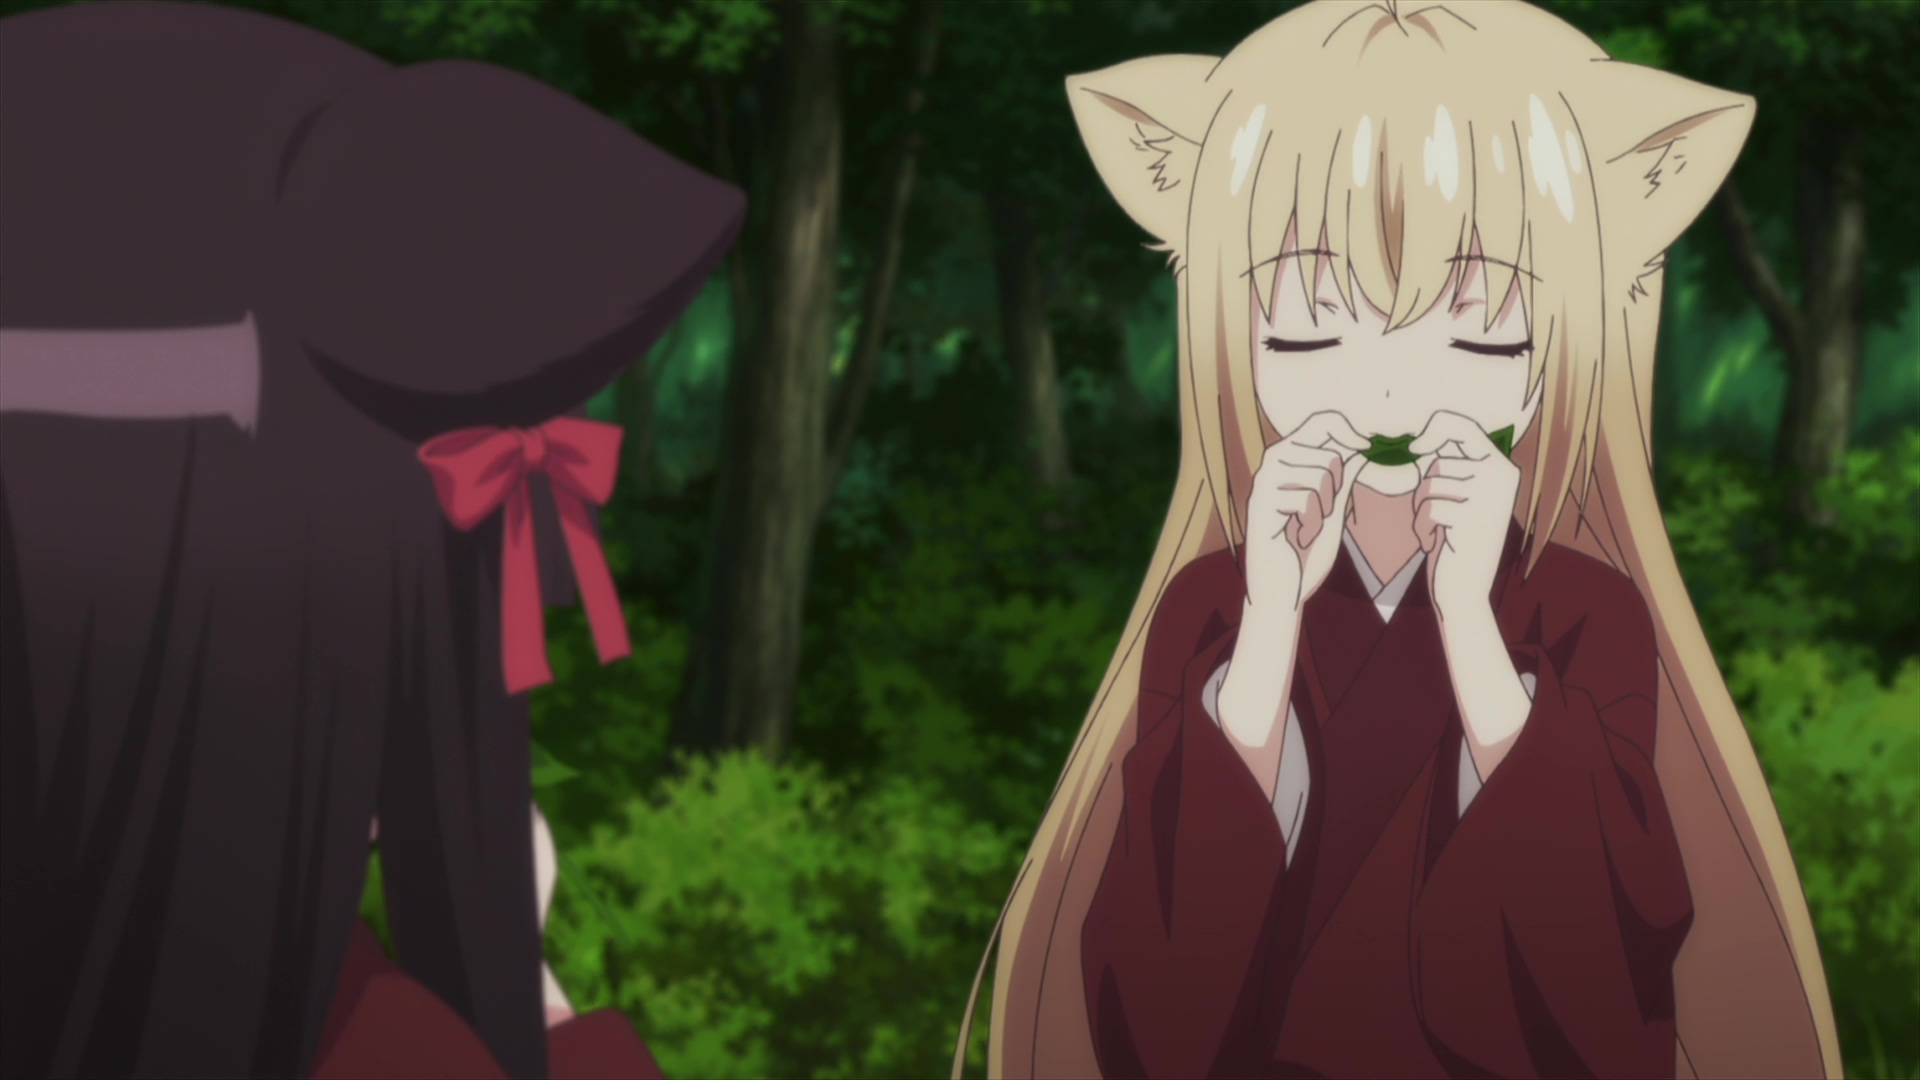柚: (947, 1, 1845, 1080)
樱: (1, 1, 752, 1080)
